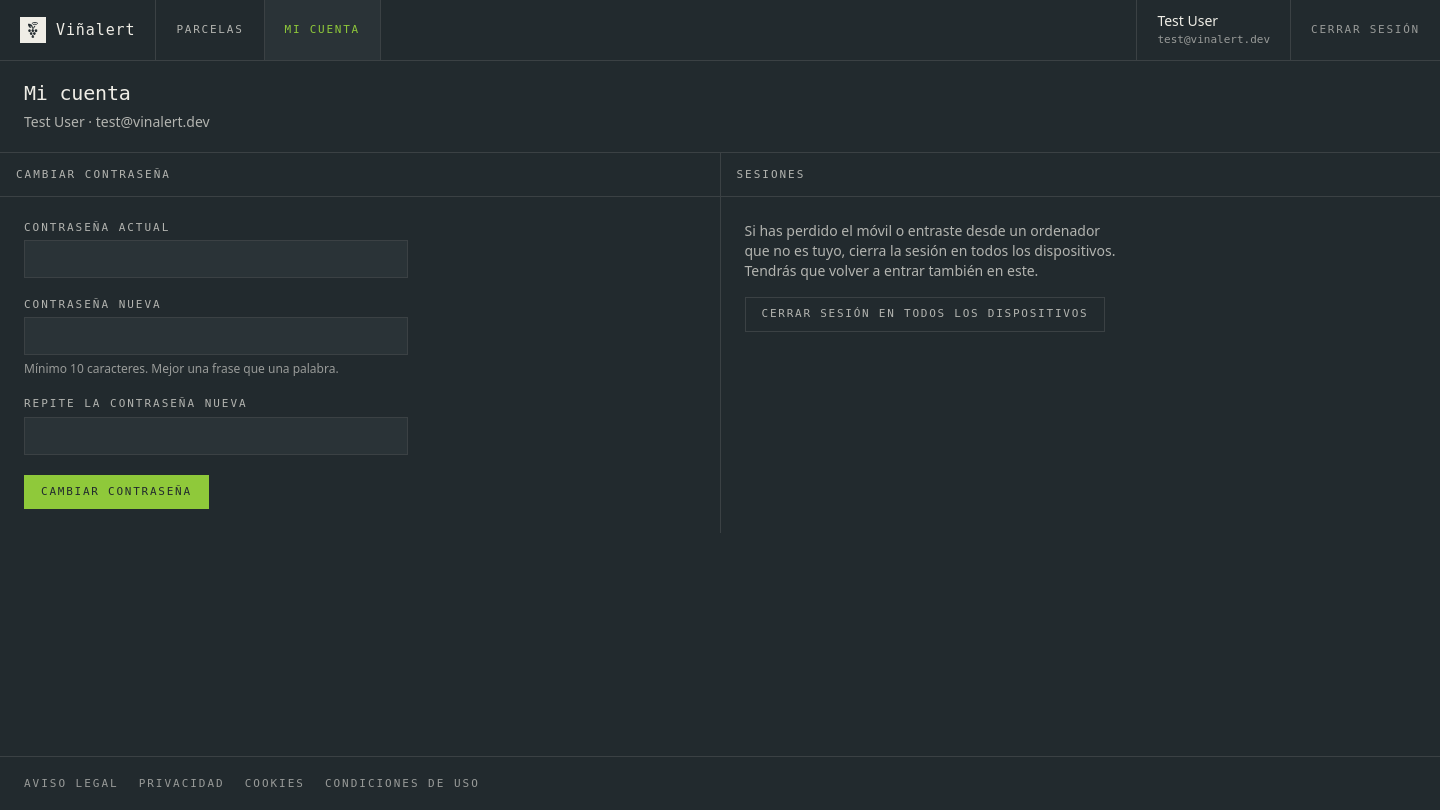
it: la actual incorrecta lo dice
The image size is (1440, 810).
Type "mala" into the password field labelled "Contraseña actual" at (216, 259), box [24,240,408,278]
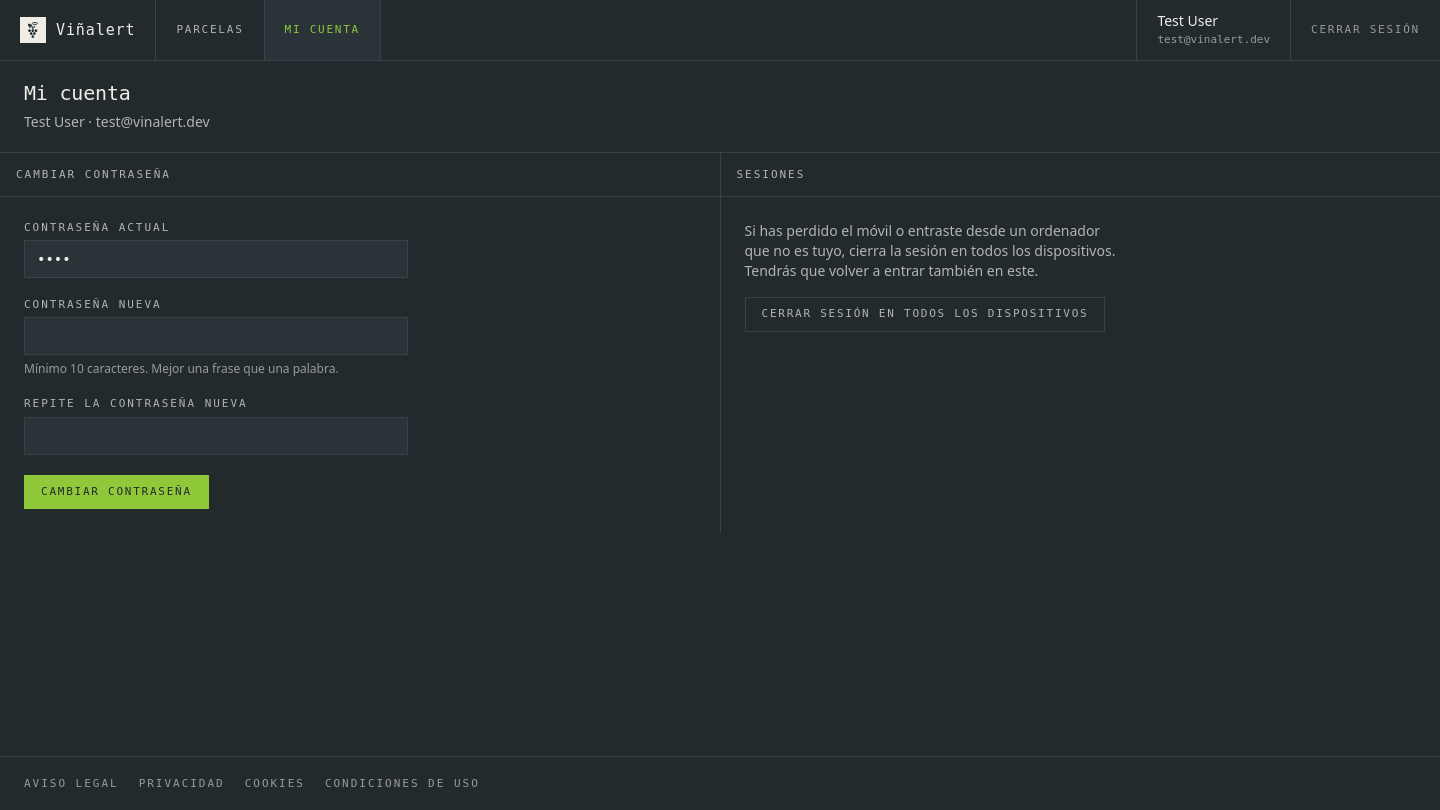
Type "cepas-de-albariño" into the password field labelled "Contraseña nueva" at (216, 336), box [24,317,408,355]
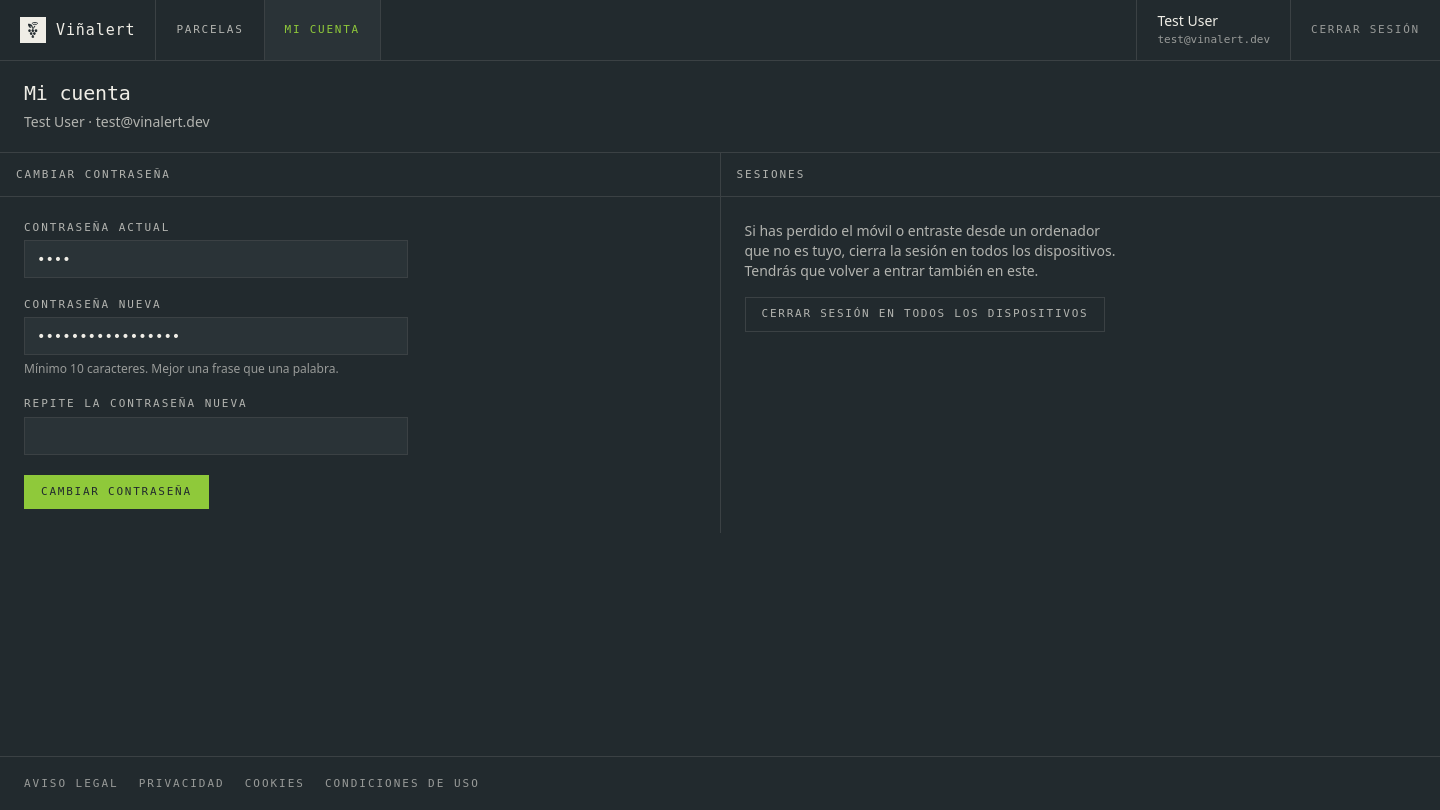
Type "cepas-de-albariño" into the password field labelled "Repite la contraseña nueva" at (216, 436), box [24,417,408,455]
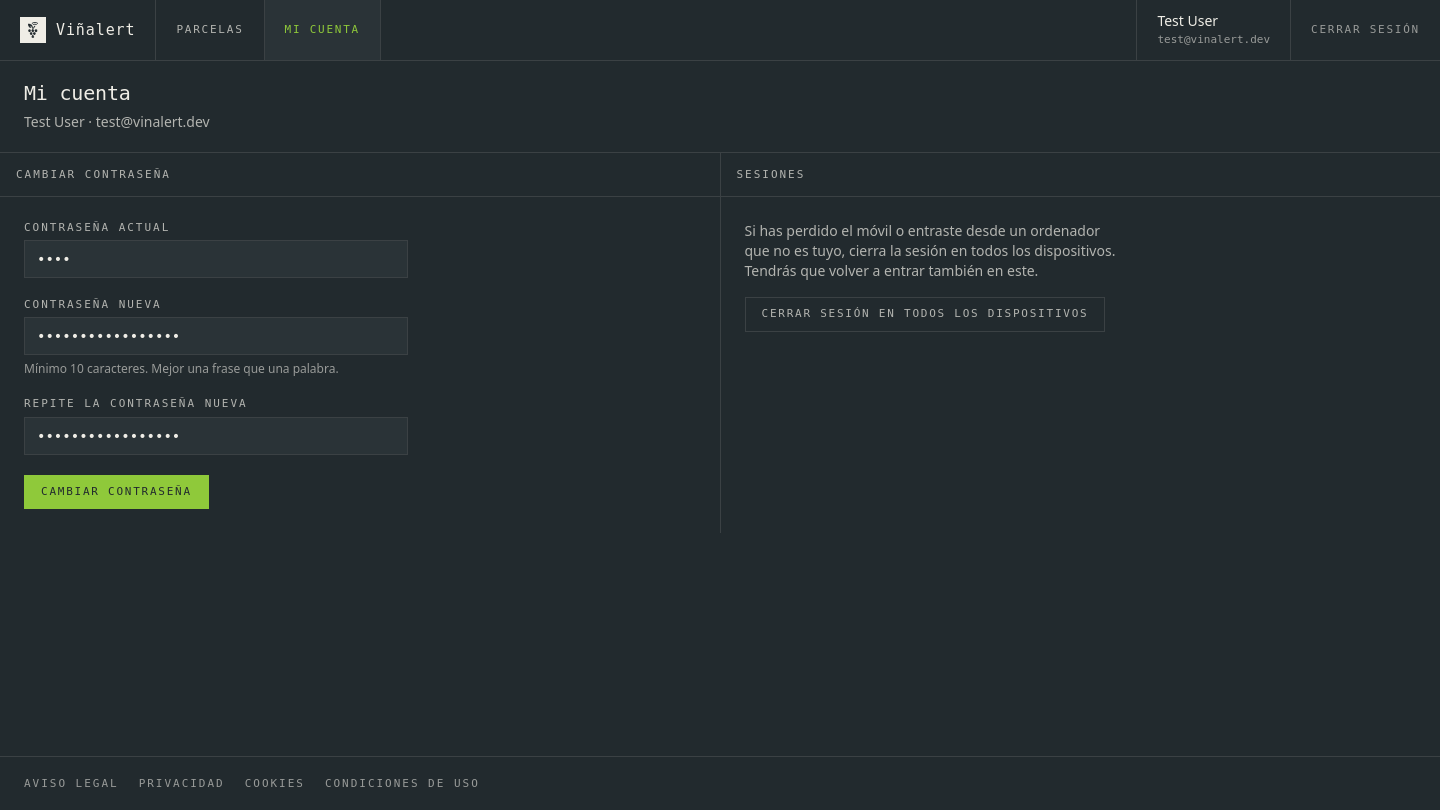
Click the button "Cambiar contraseña" at (116, 492), box [24,475,209,509]
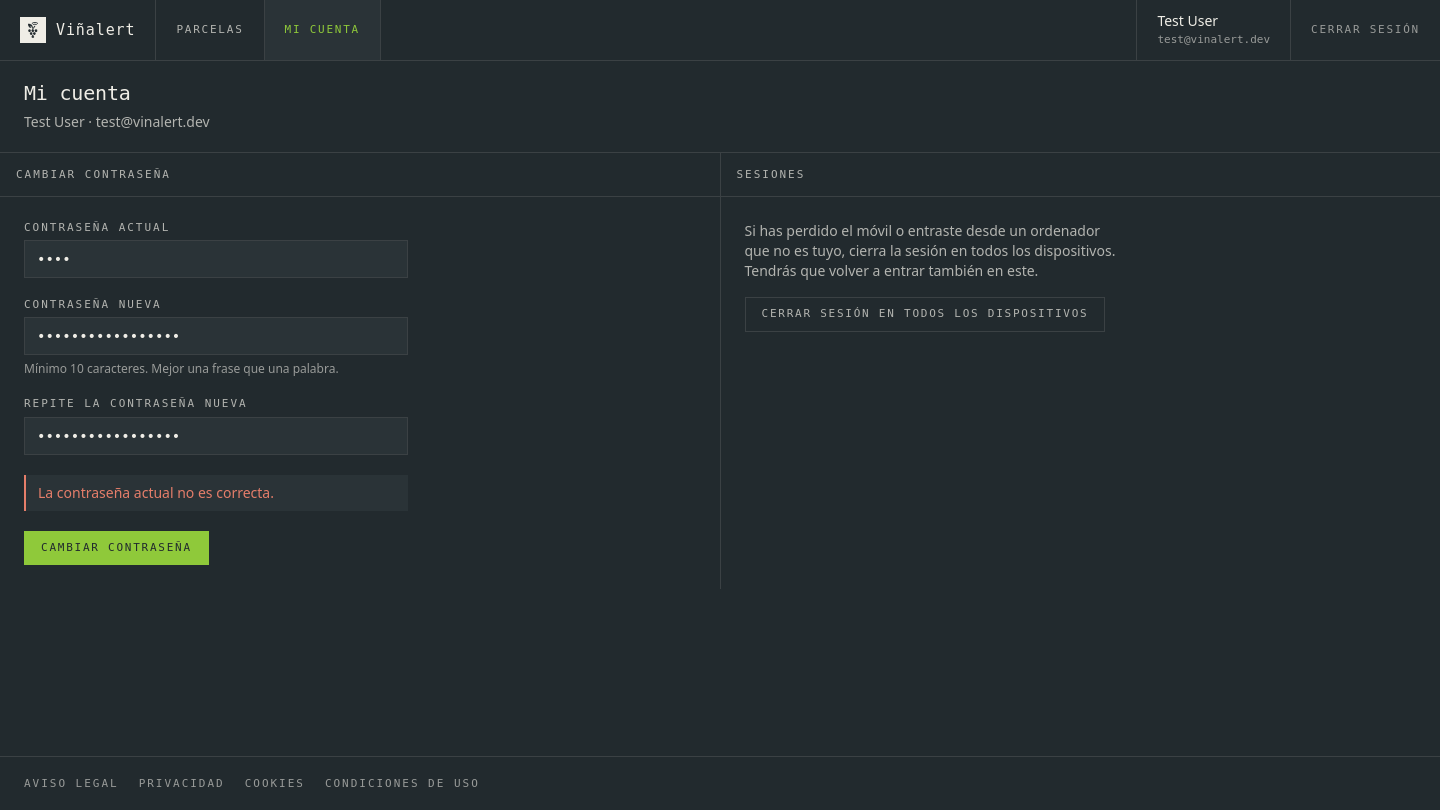
Expected: the text "La contraseña actual no es correcta." is shown, [24,475,408,511]
